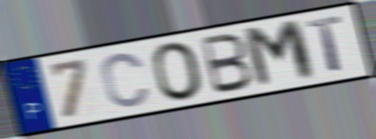7: (48, 56, 92, 122)
B: (199, 31, 256, 97)
C: (99, 50, 153, 110)
M: (240, 17, 320, 91)
O: (149, 40, 207, 103)
T: (304, 14, 345, 75)
